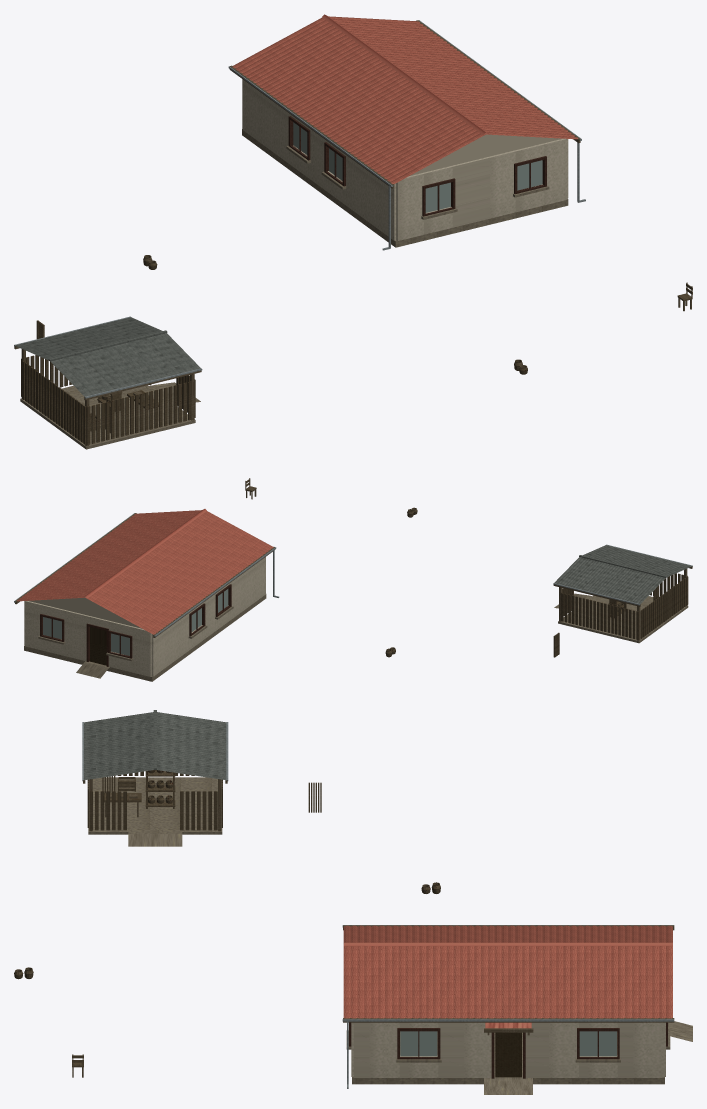
3 views of the same model, one above another, from view 1: azimuth 30°, elevation 25°; view 2: azimuth 150°, elevation 25°; view 3: azimuth 270°, elevation 25° (orthographic). The views are drawn at different scales.
Visible parts, largest first — view 1: H32_TELHAS, H32_LATERAIS, H32_RANCHO_COBERTURA, H32_RANCHO_RIPAS, H32_FUNDOS, H32_RANCHO_BASE, H32_FUNDACAO, H32_VIDROS_RECUADOS, H32_OITOES, H32_CAIXILHOS, H32_BEIRAIS, H32_CUMEEIRA (+1 smaller); view 2: H32_TELHAS, H32_RANCHO_COBERTURA, H32_LATERAIS, H32_RANCHO_RIPAS, H32_FUNDOS, H32_RANCHO_BASE, H32_FUNDACAO, H32_OITOES, H32_VIDROS_RECUADOS, H32_CAIXILHOS, H32_BEIRAIS, H32_SERVICO_PORTA_FOLHA (+3 smaller); view 3: H32_TELHAS, H32_FACHADA, H32_RANCHO_COBERTURA, H32_RANCHO_BASE, H32_RANCHO_RIPAS, H32_FUNDACAO, H32_VIDROS_RECUADOS, H32_BEIRAIS, H32_CALHA, H32_CUMEEIRA, H32_PORTA_FOLHA, H32_CAIXILHOS (+2 smaller).
Boxes of the visible parts, bbox=[...] form: H32_TELHAS: bbox=[232, 16, 577, 184]; H32_LATERAIS: bbox=[396, 138, 567, 240]; H32_RANCHO_COBERTURA: bbox=[15, 317, 200, 396]; H32_RANCHO_RIPAS: bbox=[21, 355, 195, 444]; H32_FUNDOS: bbox=[242, 79, 396, 240]; H32_RANCHO_BASE: bbox=[20, 385, 195, 449]; H32_FUNDACAO: bbox=[242, 129, 568, 247]; H32_VIDROS_RECUADOS: bbox=[293, 122, 542, 212]; H32_OITOES: bbox=[410, 134, 561, 175]; H32_CAIXILHOS: bbox=[288, 116, 546, 216]; H32_BEIRAIS: bbox=[229, 20, 580, 188]; H32_CUMEEIRA: bbox=[322, 14, 486, 134]; H32_TELHAS: bbox=[17, 510, 273, 634]; H32_RANCHO_COBERTURA: bbox=[554, 545, 691, 603]; H32_LATERAIS: bbox=[25, 601, 151, 676]; H32_RANCHO_RIPAS: bbox=[561, 573, 688, 639]; H32_FUNDOS: bbox=[151, 557, 265, 676]; H32_RANCHO_BASE: bbox=[558, 595, 688, 643]; H32_FUNDACAO: bbox=[24, 594, 266, 681]; H32_OITOES: bbox=[28, 597, 141, 628]; H32_VIDROS_RECUADOS: bbox=[43, 589, 228, 655]; H32_CAIXILHOS: bbox=[40, 584, 231, 658]; H32_BEIRAIS: bbox=[15, 513, 275, 637]; H32_SERVICO_PORTA_FOLHA: bbox=[90, 627, 106, 665]; H32_TELHAS: bbox=[343, 925, 672, 1018]; H32_FACHADA: bbox=[354, 1022, 663, 1077]; H32_RANCHO_COBERTURA: bbox=[84, 712, 226, 780]; H32_RANCHO_BASE: bbox=[88, 777, 222, 834]; H32_RANCHO_RIPAS: bbox=[87, 771, 222, 830]; H32_FUNDACAO: bbox=[352, 1031, 664, 1084]; H32_VIDROS_RECUADOS: bbox=[400, 1031, 616, 1056]; H32_BEIRAIS: bbox=[343, 925, 674, 1022]; H32_CALHA: bbox=[342, 925, 674, 1021]; H32_CUMEEIRA: bbox=[344, 942, 672, 945]; H32_PORTA_FOLHA: bbox=[495, 1032, 521, 1077]; H32_CAIXILHOS: bbox=[349, 1022, 667, 1059].
Bounding box in the file's own units: 29.11 × 4.23 × 26.33.
Materials: 11 (9 with a texture image).
